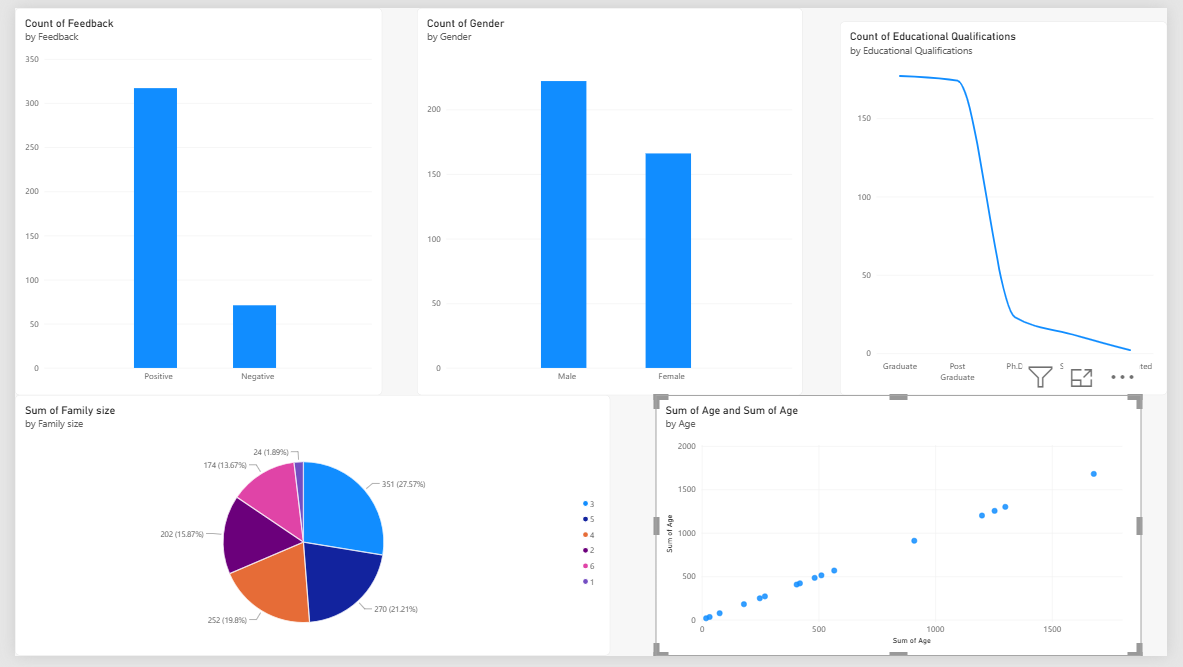

Layout of this report page (visuals, bound fields, positions):
{"tool":"powerbi","page":{"name":"Page 1","canvas":[1920,1080],"ordinal":0},"visuals":[{"type":"columnChart","fields":{"Category":["online food delivery dataset.Feedback"],"Y":["CountNonNull(online food delivery dataset.Feedback)"]},"box":[0,0,611.9,645.3],"z":0},{"type":"columnChart","fields":{"Category":["online food delivery dataset.Gender"],"Y":["CountNonNull(online food delivery dataset.Gender)"]},"box":[670.3,0,642.5,645.3],"z":1000},{"type":"pieChart","fields":{"Category":["online food delivery dataset.Family size"],"Y":["Sum(online food delivery dataset.Family size)"]},"box":[0,645.3,992.1,433.7],"z":2000},{"type":"lineChart","fields":{"Category":["online food delivery dataset.Educational Qualifications"],"Y":["CountNonNull(online food delivery dataset.Educational Qualifications)"]},"box":[1374.1,22.7,545.1,622.3],"z":3000},{"type":"scatterChart","fields":{"Category":["online food delivery dataset.Age"],"X":["Sum(online food delivery dataset.Age)"],"Y":["Sum(online food delivery dataset.Age)"]},"box":[1067.5,645.1,810.9,433.8],"z":4000}]}

Visuals, with their boxes in screenshot pixels (x1, y1, x2, y2), scaled from the page's 1920x1080 canvas onto the 1183x667 screenshot:
columnChart - online food delivery dataset.Feedback x CountNonNull(online food delivery dataset.Feedback): <region>0, 0, 377, 399</region>
columnChart - online food delivery dataset.Gender x CountNonNull(online food delivery dataset.Gender): <region>413, 0, 809, 399</region>
pieChart - online food delivery dataset.Family size x Sum(online food delivery dataset.Family size): <region>0, 399, 611, 666</region>
lineChart - online food delivery dataset.Educational Qualifications x CountNonNull(online food delivery dataset.Educational Qualifications): <region>847, 14, 1182, 398</region>
scatterChart - online food delivery dataset.Age x Sum(online food delivery dataset.Age): <region>658, 398, 1157, 666</region>
